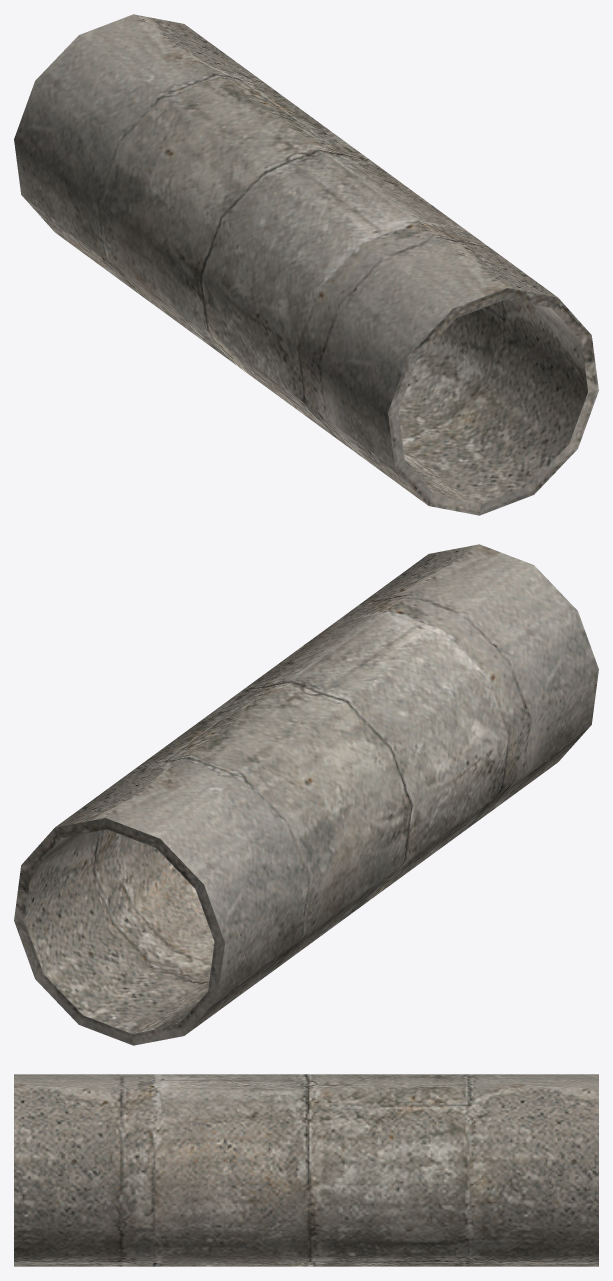
File: Hardtube_LOD1.fbx
The picture shows the model from 3 angles, top to bottom: view 1: azimuth 30°, elevation 25°; view 2: azimuth 150°, elevation 25°; view 3: azimuth 270°, elevation 25°; orthographic projection. The views are drawn at different scales.
Parts seen in each view (by area): view 1: pCylinder26; view 2: pCylinder26; view 3: pCylinder26.
Part boxes in pixels (x1,y1,x2,y2): pCylinder26: [14, 14, 598, 515]; pCylinder26: [14, 544, 598, 1045]; pCylinder26: [14, 1074, 598, 1266].
Bounding box in the file's own units: 2.27 × 2.27 × 6.97.
